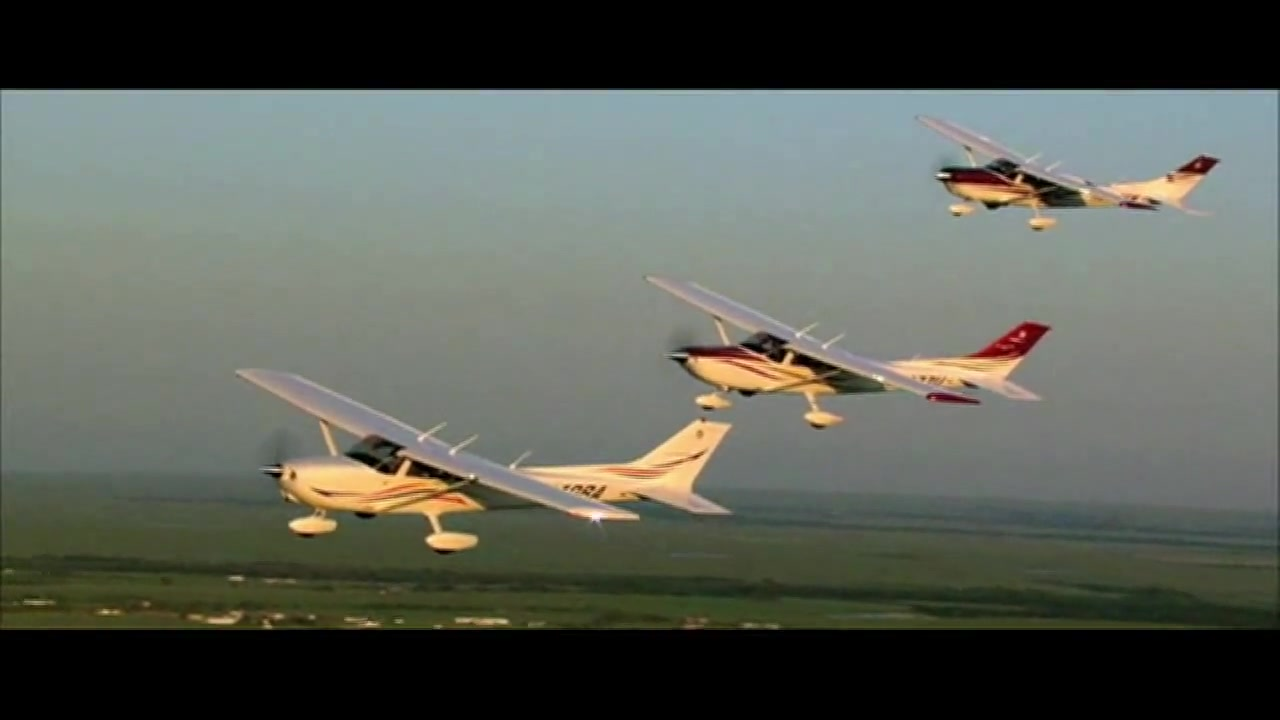aeroplane: (226, 365, 734, 555), (644, 271, 1051, 430), (906, 107, 1225, 232)
